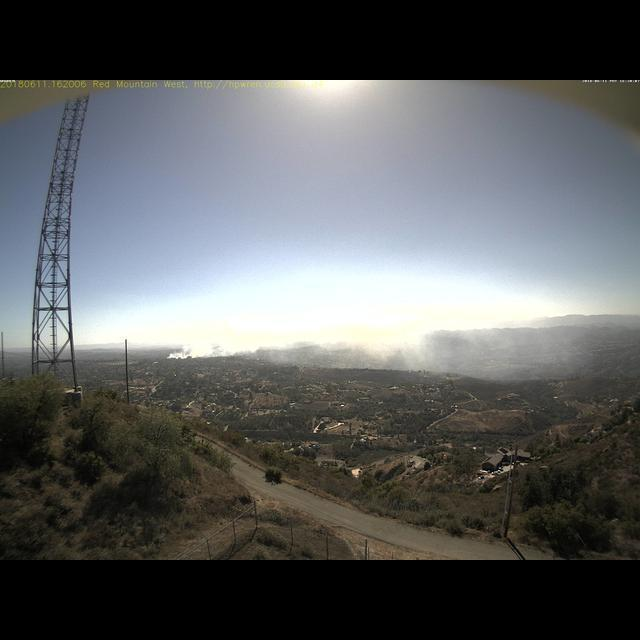Smoke: (165, 319, 459, 367)
